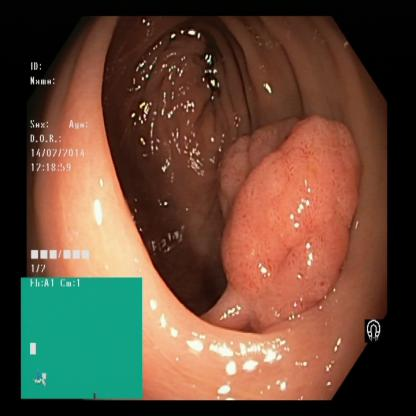Labels: (26, 57, 97, 278), (20, 278, 141, 398), (368, 319, 384, 347)
Polyps: (225, 128, 354, 315)
